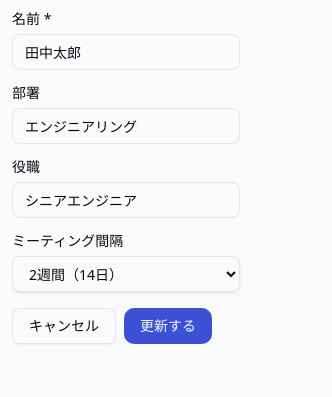
Test case: MemberForm - 編集モード › エラー時にエラーメッセージとトーストが表示される
Step 1. Click the button "更新する" → x=168, y=326, box [124,308,212,344]
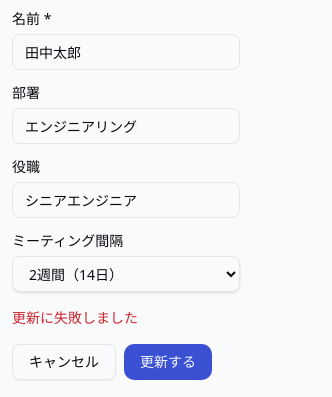
Result: the text "更新に失敗しました" is shown at [12,308,138,327]
